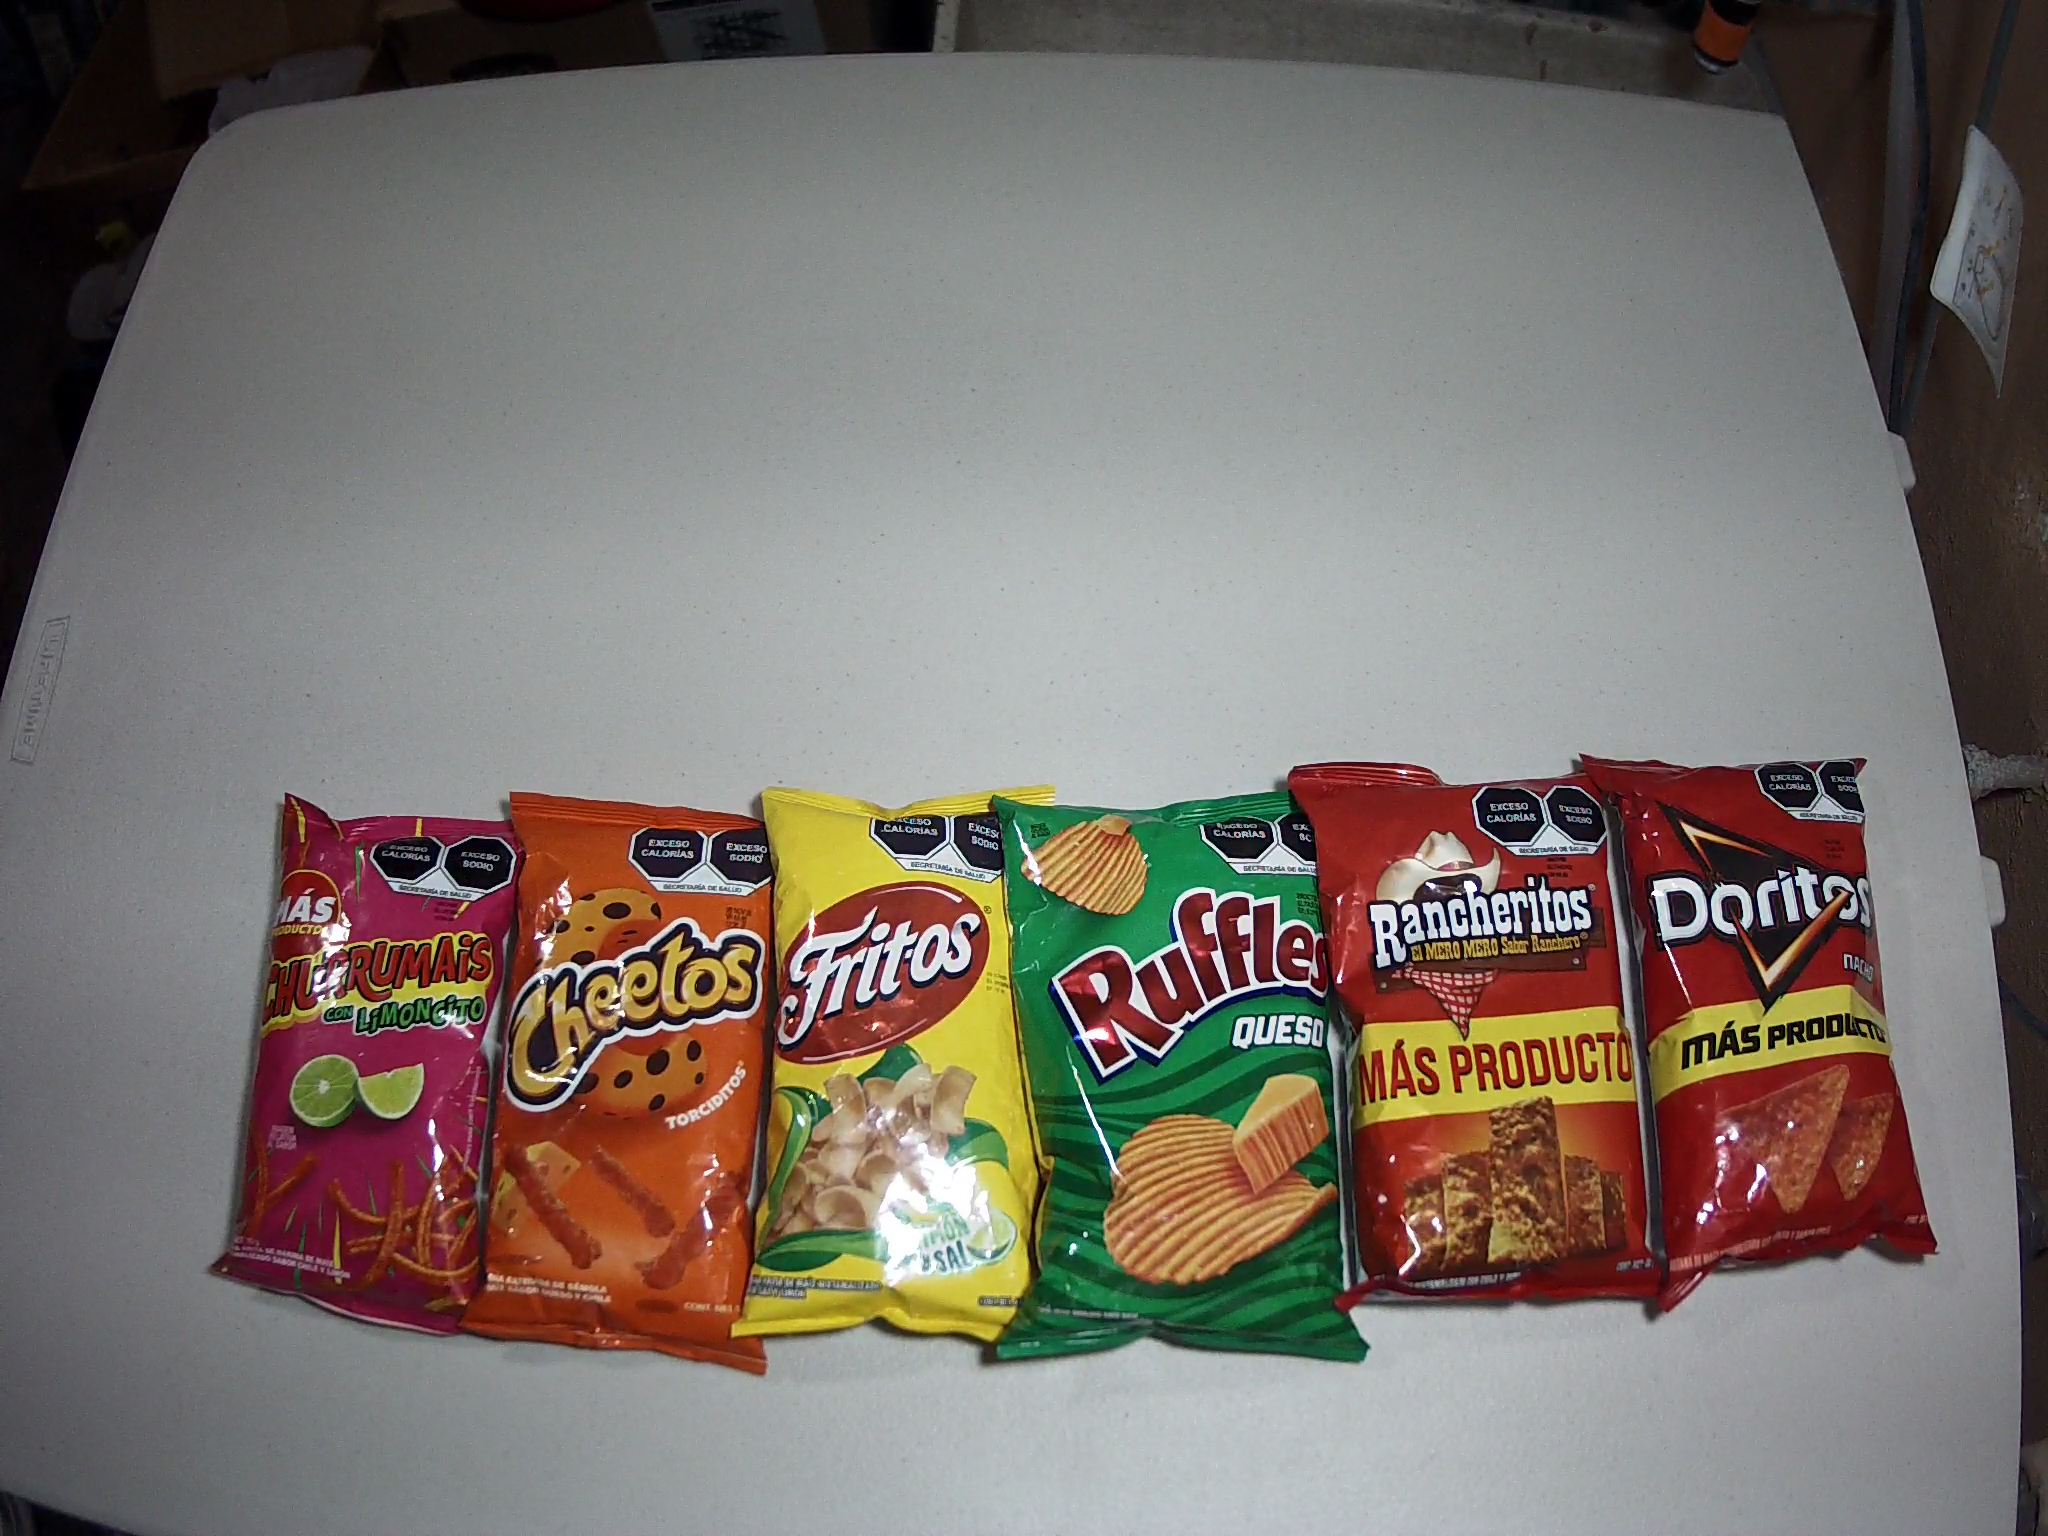CheetosTorciditos_55_F: (489, 787, 769, 1375)
Churrumais_70_F: (211, 791, 513, 1333)
DoritosN_61_F: (1584, 753, 1942, 1304)
FritosSalLimon_65_F: (748, 781, 1039, 1342)
Rancheritos_58_F: (1284, 762, 1661, 1304)
RufflesQ_48_F: (985, 797, 1369, 1367)
